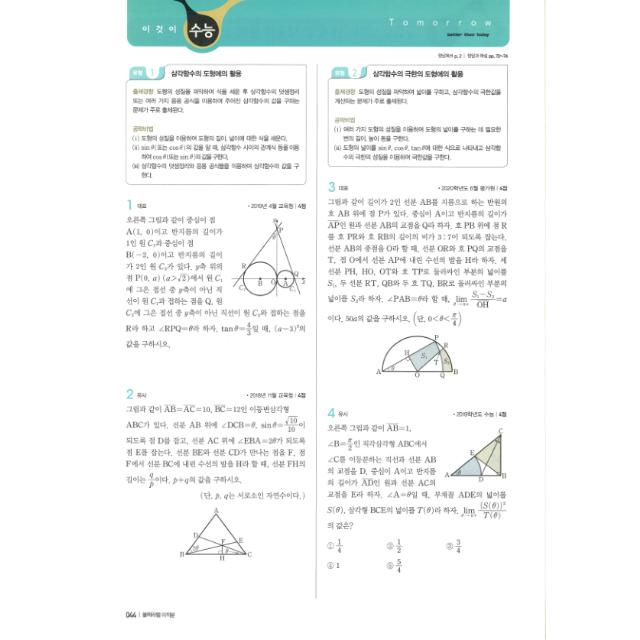multiple: (320, 399, 516, 577)
short: (322, 173, 512, 381), (116, 380, 310, 570), (120, 190, 310, 356)
